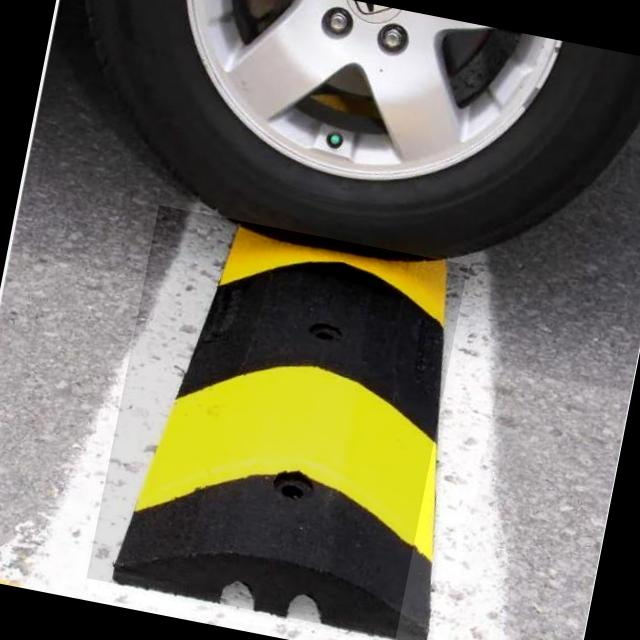bump: (86, 206, 468, 638)
